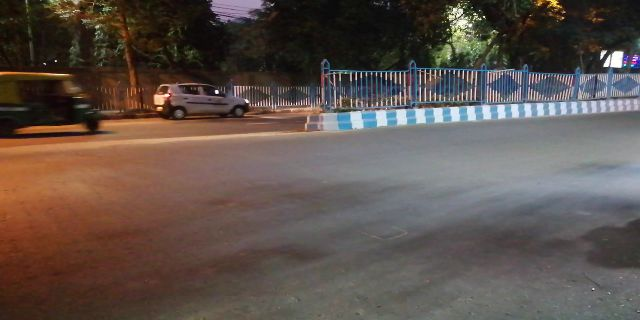Autorickshaw: (6, 69, 104, 137)
Car: (156, 81, 250, 122)
